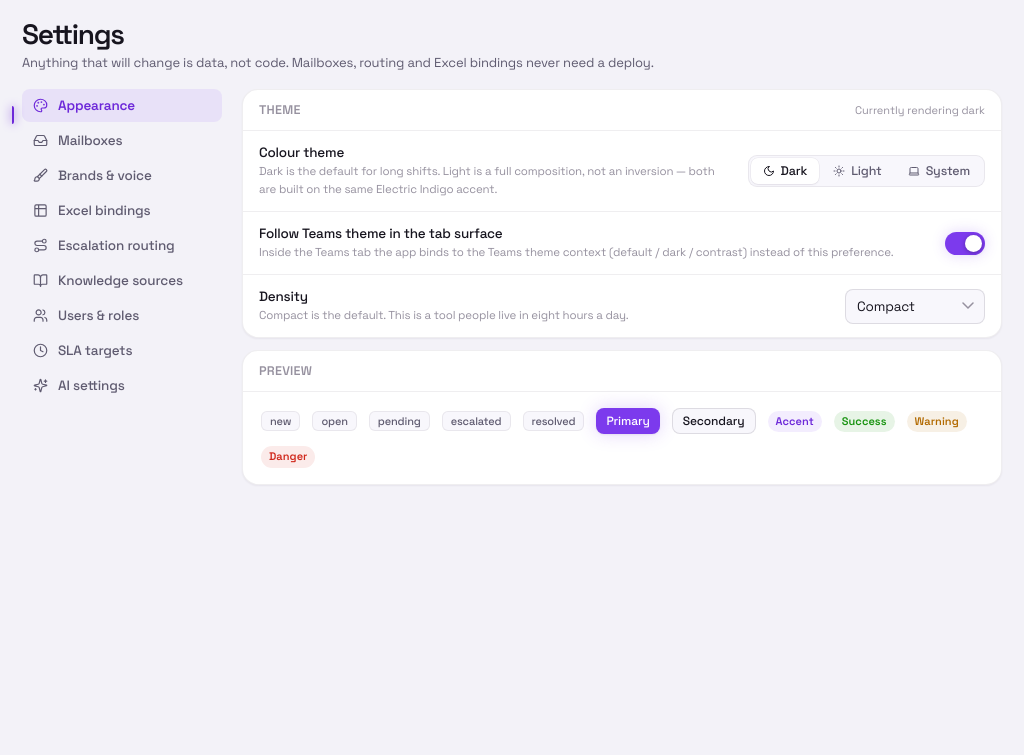
Test: Settings in live mode › fetches AI settings from the API
The image size is (1024, 755).
Click the button "AI settings": (122, 386) [22, 369, 222, 402]
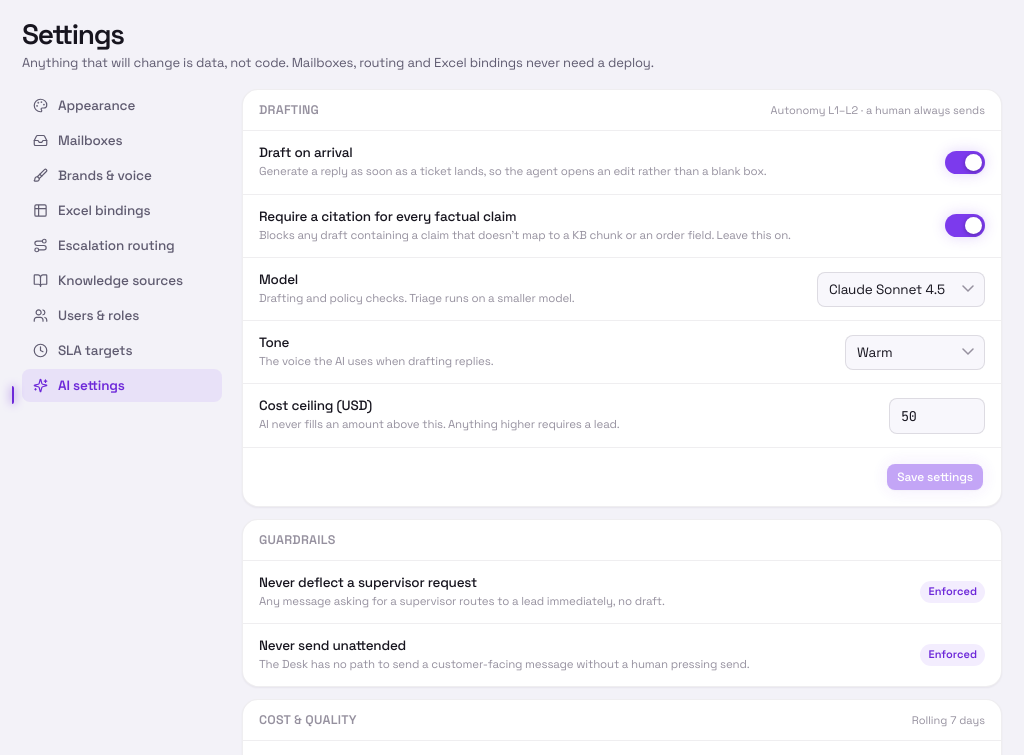
Now the text "Draft on arrival" is shown, box [259, 144, 353, 161]
